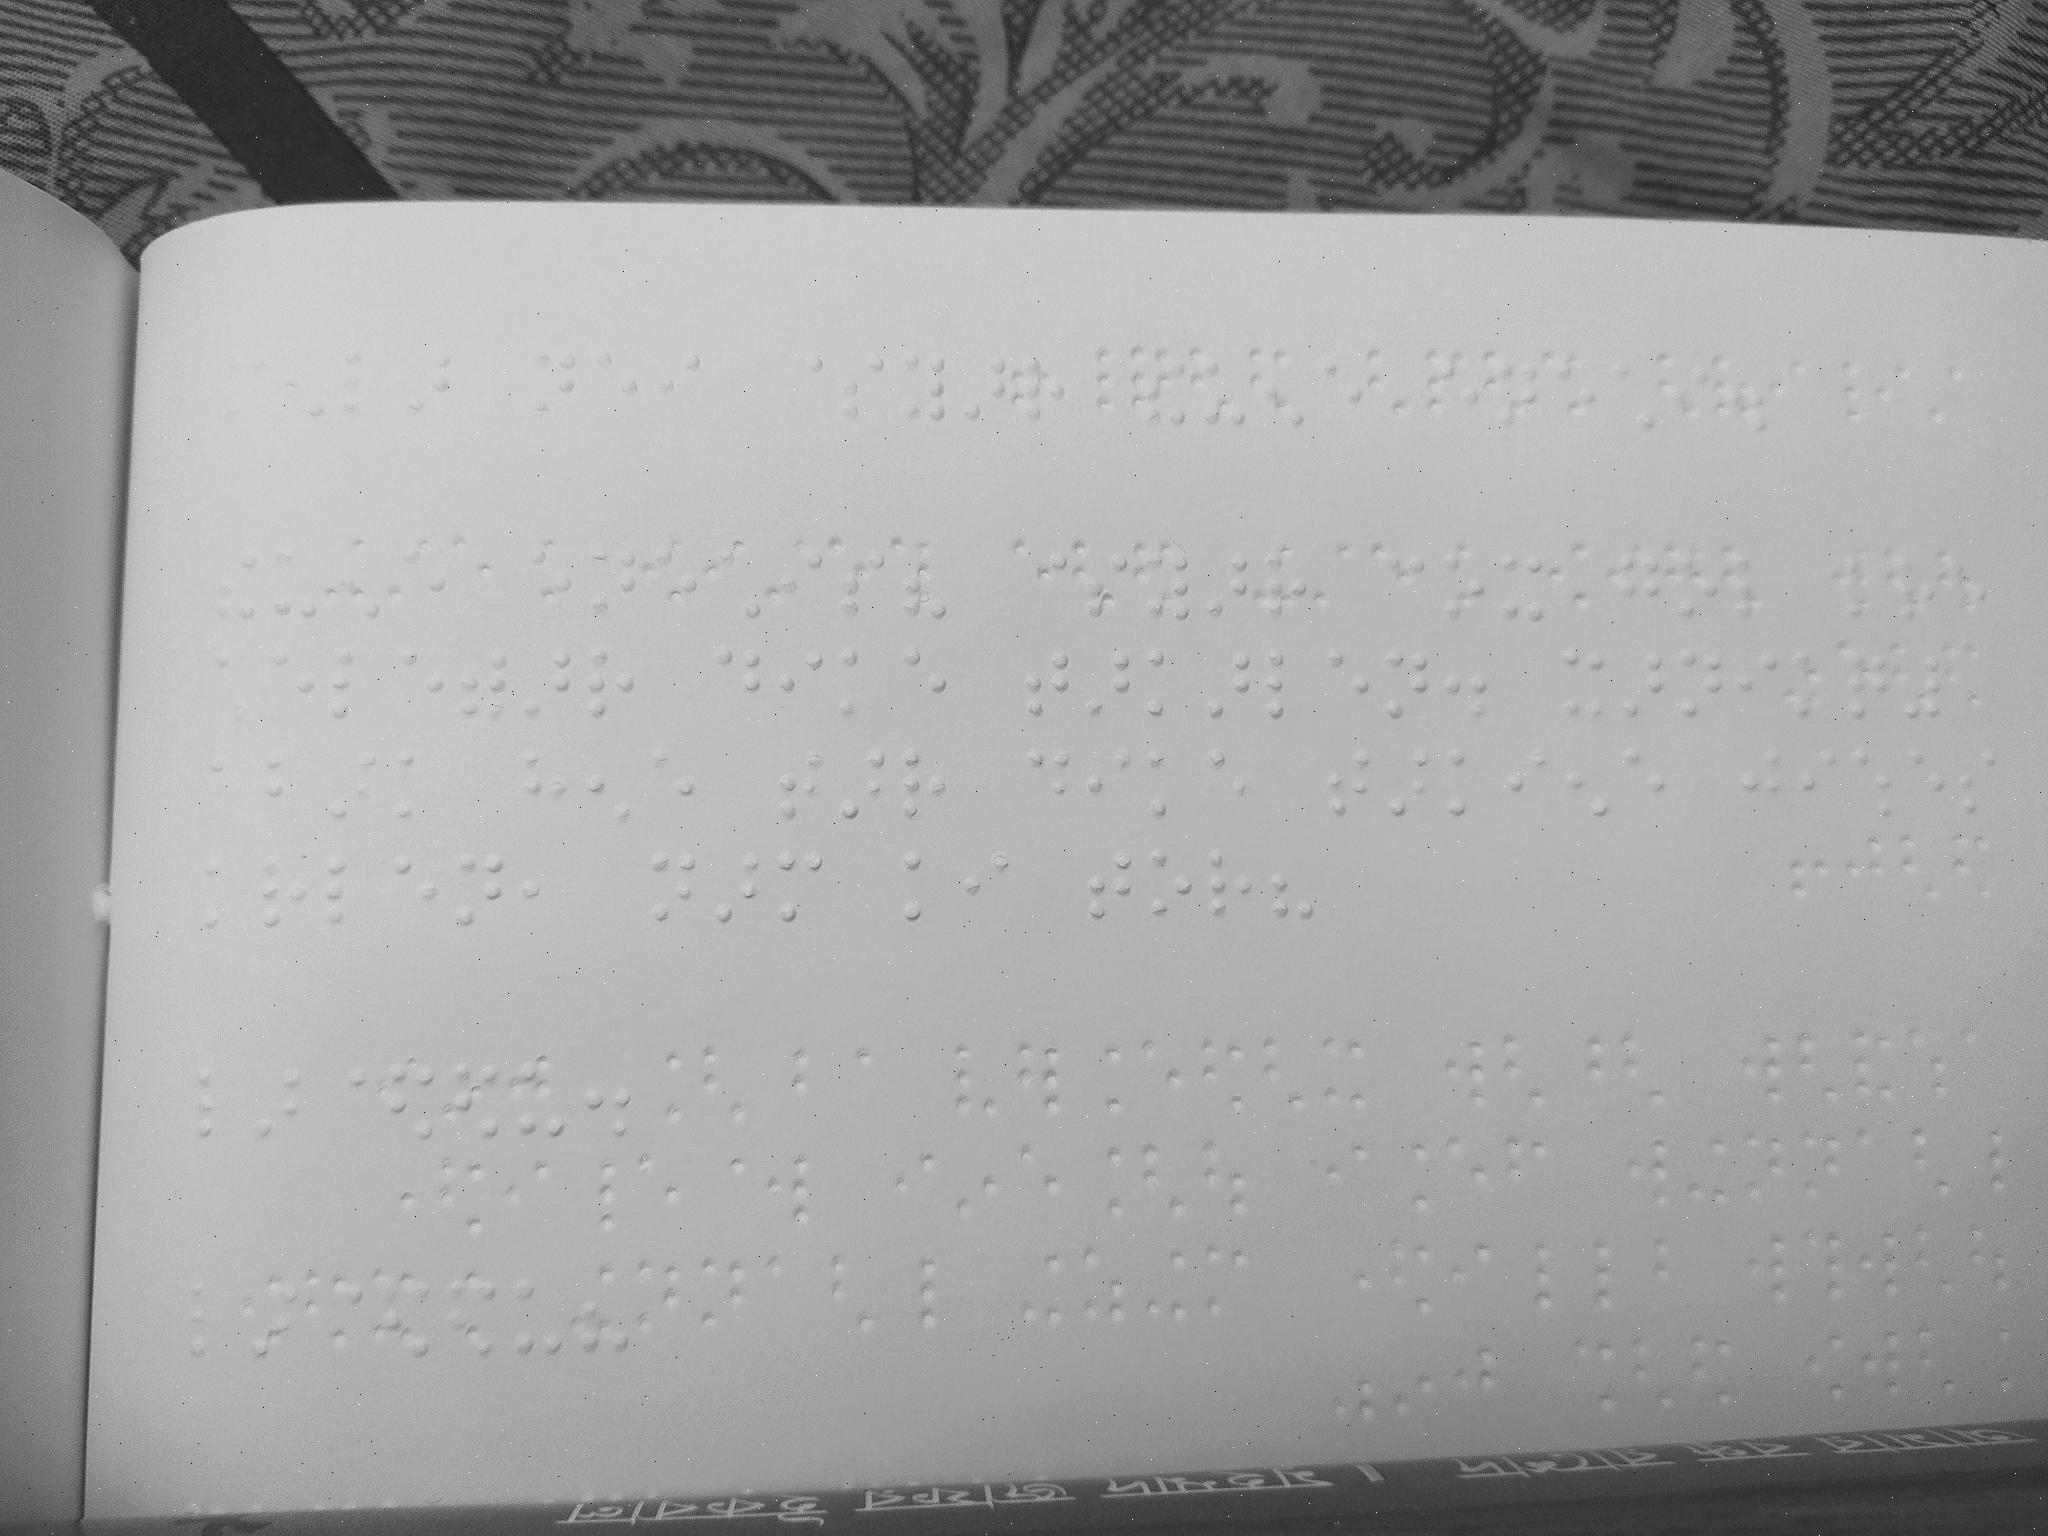a: (240, 1268, 303, 1363), (1198, 634, 1258, 733), (248, 1060, 319, 1142), (519, 626, 576, 729), (706, 841, 769, 926), (834, 739, 893, 828), (1380, 739, 1437, 828), (1200, 547, 1258, 631), (324, 744, 382, 828), (1085, 650, 1140, 729), (403, 349, 453, 423), (961, 352, 1009, 423), (1621, 649, 1664, 721)
aw: (198, 749, 258, 818)
b: (261, 745, 318, 829)
ch: (1379, 552, 1435, 623)
chh: (1603, 345, 1667, 440), (708, 539, 766, 623), (210, 649, 261, 731)
d: (442, 1055, 510, 1147), (377, 1268, 439, 1367), (443, 1267, 505, 1365), (384, 1054, 440, 1150), (710, 645, 766, 723), (1022, 742, 1074, 816)
dh: (1137, 345, 1198, 437), (210, 549, 268, 628)
e: (887, 636, 953, 726), (1201, 741, 1264, 828), (384, 845, 445, 933), (645, 739, 703, 829), (590, 345, 650, 432), (390, 644, 448, 726), (1621, 739, 1675, 823), (266, 647, 319, 733), (1316, 644, 1376, 720), (1548, 350, 1603, 428), (1435, 355, 1492, 428), (1901, 741, 1956, 813), (526, 542, 581, 610), (647, 544, 698, 615), (382, 541, 427, 621)
g: (1614, 544, 1664, 618)
h: (516, 742, 576, 828)
i: (948, 845, 1016, 925), (768, 644, 830, 726), (769, 542, 830, 618), (651, 344, 705, 426), (1079, 742, 1135, 820), (1500, 742, 1550, 824), (1800, 737, 1850, 820), (1663, 355, 1716, 429), (1735, 644, 1784, 723)
j: (898, 340, 959, 432), (1143, 544, 1200, 628), (1732, 737, 1792, 815)
k: (1135, 739, 1192, 829), (903, 845, 953, 929), (1135, 650, 1190, 723), (390, 744, 437, 828), (200, 852, 247, 936), (1835, 545, 1885, 623), (1443, 744, 1493, 821), (1784, 641, 1827, 723), (832, 650, 876, 728)
kh: (1493, 544, 1545, 629), (1558, 647, 1613, 726), (1842, 644, 1895, 723)
l: (181, 1265, 237, 1365), (190, 1063, 247, 1150), (323, 645, 377, 731), (1722, 544, 1772, 636), (323, 845, 371, 934), (343, 349, 395, 426), (1256, 647, 1308, 720)
m: (214, 352, 282, 437), (779, 839, 832, 923)
n: (1379, 642, 1443, 724), (452, 845, 513, 931), (527, 349, 587, 432), (643, 845, 698, 929), (585, 542, 643, 620), (1672, 642, 1725, 726), (1487, 352, 1548, 424), (1901, 642, 1946, 729)
o: (1888, 550, 1943, 631), (1435, 547, 1492, 624), (1151, 842, 1200, 929), (1672, 544, 1721, 621)
r: (893, 744, 956, 836), (253, 850, 313, 931), (1201, 842, 1256, 928), (590, 636, 640, 729), (1259, 549, 1313, 632), (1943, 552, 1996, 636), (1016, 350, 1069, 423)
s: (834, 541, 892, 623), (1080, 549, 1142, 623), (839, 349, 892, 426), (1958, 742, 2003, 818)
t: (450, 647, 516, 731), (1321, 739, 1379, 831), (777, 739, 829, 828), (1024, 644, 1077, 728), (1082, 845, 1135, 925)
u: (505, 1267, 572, 1365), (1200, 349, 1255, 439), (518, 1054, 571, 1142), (273, 544, 324, 624)
y: (277, 352, 339, 436), (1556, 744, 1616, 829), (1253, 349, 1311, 436), (581, 747, 640, 831), (1314, 349, 1371, 431), (329, 545, 382, 628)
